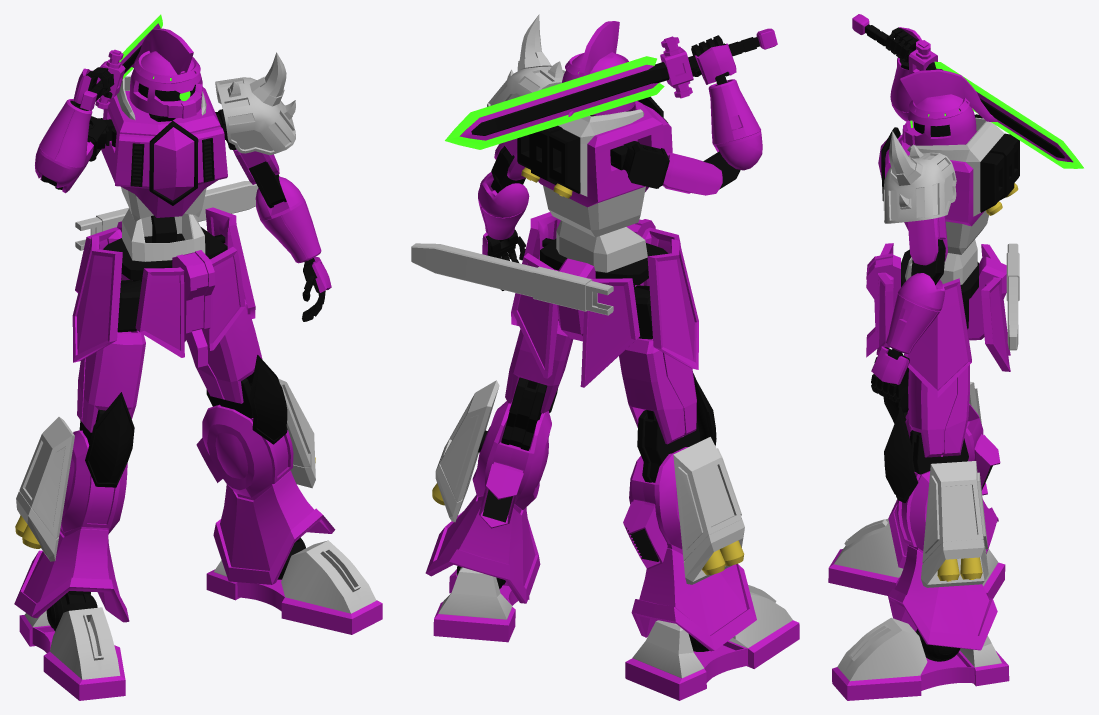
The model's file is Pawn_AttackType_Equipo1.fbx.
The picture shows the model from 3 angles, left to right: view 1: azimuth 30°, elevation 25°; view 2: azimuth 150°, elevation 25°; view 3: azimuth 270°, elevation 25°; orthographic projection. The views are drawn at different scales.
Visible parts, largest first — view 1: Pierna_Femur_Armor_IZQ, Pierna_Femur_Armor_DER, Waist_Front_Armor_Generic, Torso_Main, Waist_Armor_Lat_IZQ (×2), Arm_Shoulder_Armor_AttackType_IZQ, Pierna_Propulsor_Main_DER, Cabeza_AttackType, Pierna_Pie_Top_IZQ, Pierna_Muslo_Armor_DER, Pierna_Pie_Top_DER, Pierna_Pie_Bottom_IZQ (+25 smaller); view 2: Pierna_Femur_Armor_DER, Pierna_Femur_Armor_IZQ, Pierna_Propulsor_Main_DER, Waist_Back_Armor_Generic, Sword_Funda, Waist_Armor_Lat_IZQ (×2), Pierna_Muslo_Armor_DER, Pierna_Pie_Bottom_DER, Torso_Main, Pierna_Pie_Top_DER, Sword_Guarda, Pierna_Propulsor_Main_IZQ (+27 smaller); view 3: Pierna_Femur_Armor_IZQ, Pierna_Propulsor_Main_IZQ, Cabeza_AttackType, Arm_Shoulder_Armor_AttackType_IZQ, Pierna_Pie_Top_IZQ, Waist_Armor_Lat_IZQ, Pierna_Muslo_Armor_IZQ, Pierna_Pie_Bottom_IZQ, Pierna_Pie_Top_DER, Torso_BackPack_Main, Pierna_Femur_Armor_DER, Waist_Back_Armor_Generic (+24 smaller).
Part boxes in pixels (x1,y1,x2,y2): Pierna_Femur_Armor_IZQ: [196, 404, 335, 584]; Pierna_Femur_Armor_DER: [14, 430, 129, 622]; Waist_Front_Armor_Generic: [135, 247, 245, 357]; Torso_Main: [101, 87, 227, 217]; Waist_Armor_Lat_IZQ (×2): [72, 207, 255, 362]; Arm_Shoulder_Armor_AttackType_IZQ: [215, 52, 295, 155]; Pierna_Propulsor_Main_DER: [16, 417, 74, 561]; Cabeza_AttackType: [129, 28, 202, 118]; Pierna_Pie_Top_IZQ: [214, 540, 376, 613]; Pierna_Muslo_Armor_DER: [77, 330, 145, 432]; Pierna_Pie_Top_DER: [24, 607, 120, 679]; Pierna_Pie_Bottom_IZQ: [206, 569, 382, 634]; Pierna_Femur_Armor_DER: [623, 447, 756, 651]; Pierna_Femur_Armor_IZQ: [425, 399, 551, 603]; Pierna_Propulsor_Main_DER: [673, 437, 744, 584]; Waist_Back_Armor_Generic: [511, 253, 639, 387]; Sword_Funda: [411, 243, 613, 315]; Waist_Armor_Lat_IZQ (×2): [511, 212, 698, 369]; Pierna_Muslo_Armor_DER: [619, 338, 696, 444]; Pierna_Pie_Bottom_DER: [625, 620, 799, 700]; Torso_Main: [538, 101, 672, 207]; Pierna_Pie_Top_DER: [632, 585, 792, 678]; Sword_Guarda: [459, 28, 777, 140]; Pierna_Propulsor_Main_IZQ: [435, 380, 499, 522]; Pierna_Femur_Armor_IZQ: [888, 471, 998, 650]; Pierna_Propulsor_Main_IZQ: [921, 461, 988, 587]; Cabeza_AttackType: [900, 69, 997, 145]; Arm_Shoulder_Armor_AttackType_IZQ: [883, 131, 956, 223]; Pierna_Pie_Top_IZQ: [837, 617, 1001, 681]; Waist_Armor_Lat_IZQ: [904, 278, 971, 397]; Pierna_Muslo_Armor_IZQ: [908, 365, 969, 457]; Pierna_Pie_Bottom_IZQ: [832, 650, 1009, 700]; Pierna_Pie_Top_DER: [834, 519, 998, 586]; Torso_BackPack_Main: [980, 133, 1019, 212]; Pierna_Femur_Armor_DER: [888, 404, 1000, 568]; Waist_Back_Armor_Generic: [981, 244, 1010, 371].
Size of the model in its own units: 746 by 1379 by 569.
